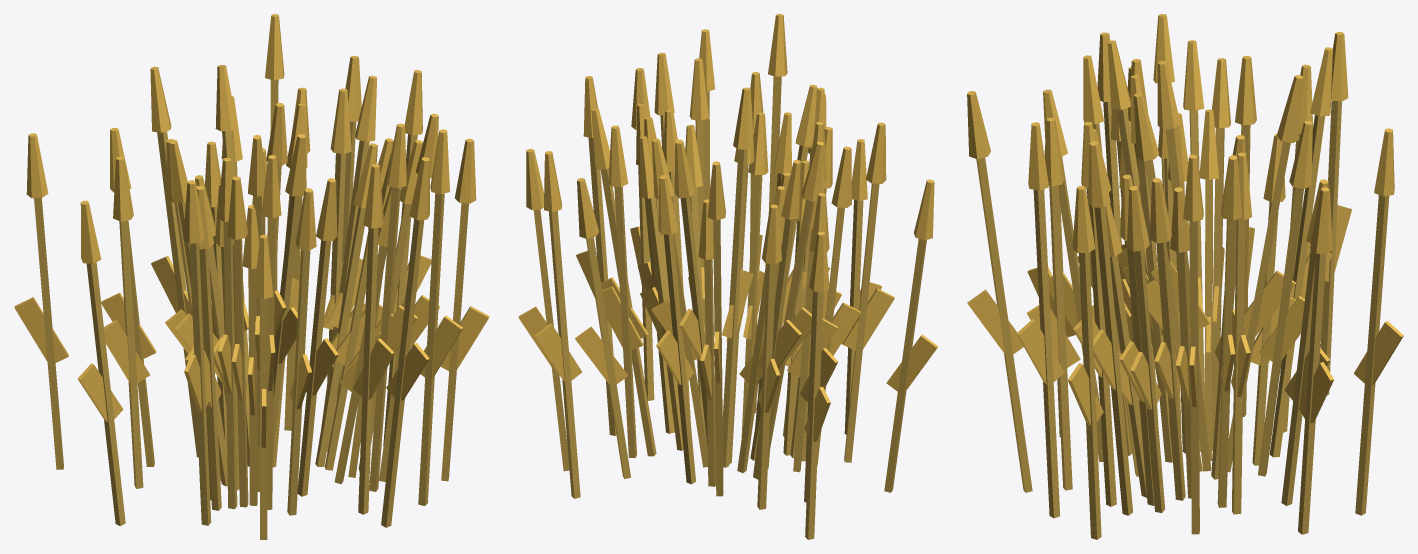
The model's file is Wheat_Patch_Wide.fbx.
3 renders of one model, left to right at view 1: azimuth 30°, elevation 25°; view 2: azimuth 150°, elevation 25°; view 3: azimuth 270°, elevation 25°, orthographic. The views are drawn at different scales.
Parts seen in each view (by area): view 1: Wheat_Patch_Wide; view 2: Wheat_Patch_Wide; view 3: Wheat_Patch_Wide.
Part boxes in pixels (bbox=[...]): Wheat_Patch_Wide: bbox=[14, 14, 489, 539]; Wheat_Patch_Wide: bbox=[518, 14, 938, 539]; Wheat_Patch_Wide: bbox=[967, 14, 1403, 539].
Bounding box in the file's own units: 1.18 × 1.17 × 1.14.
